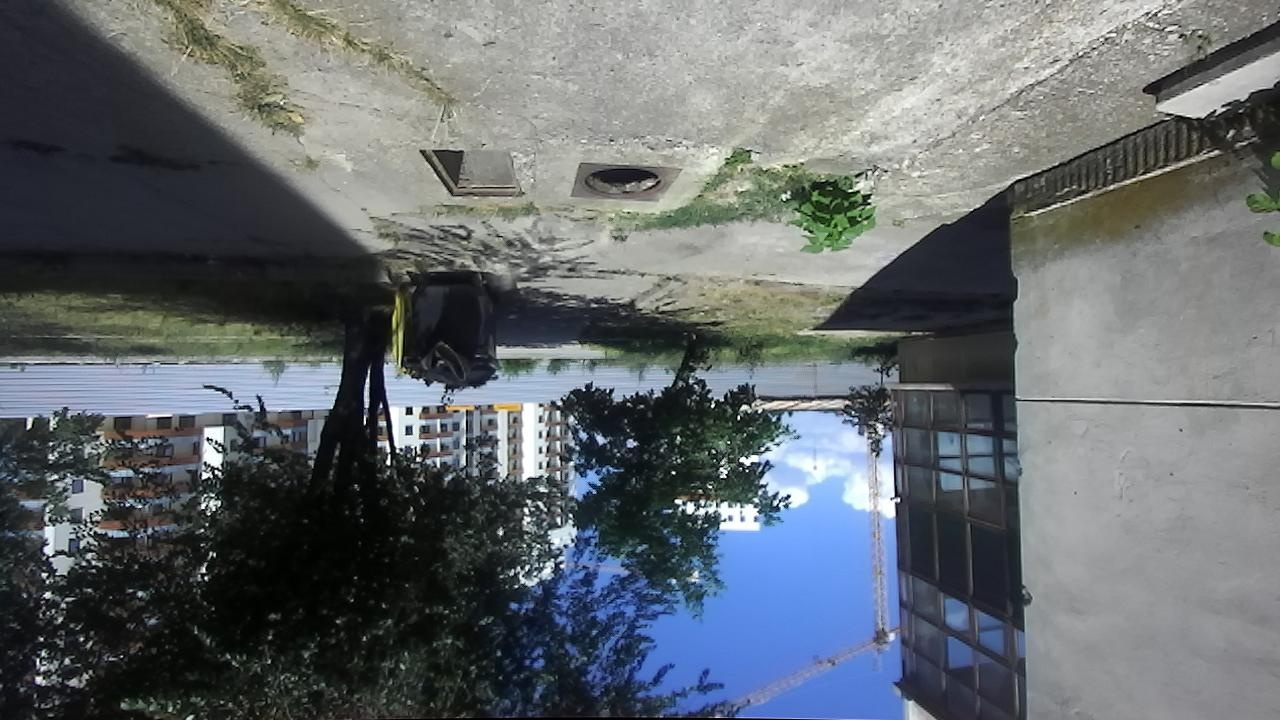drain: (413, 141, 528, 200), (581, 164, 670, 201)
